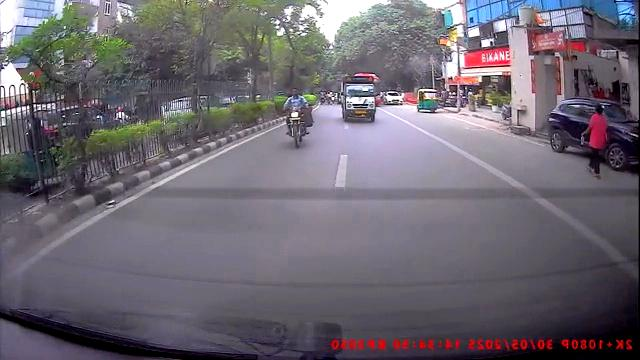motorcycle_without_helmet: (283, 86, 313, 149)
